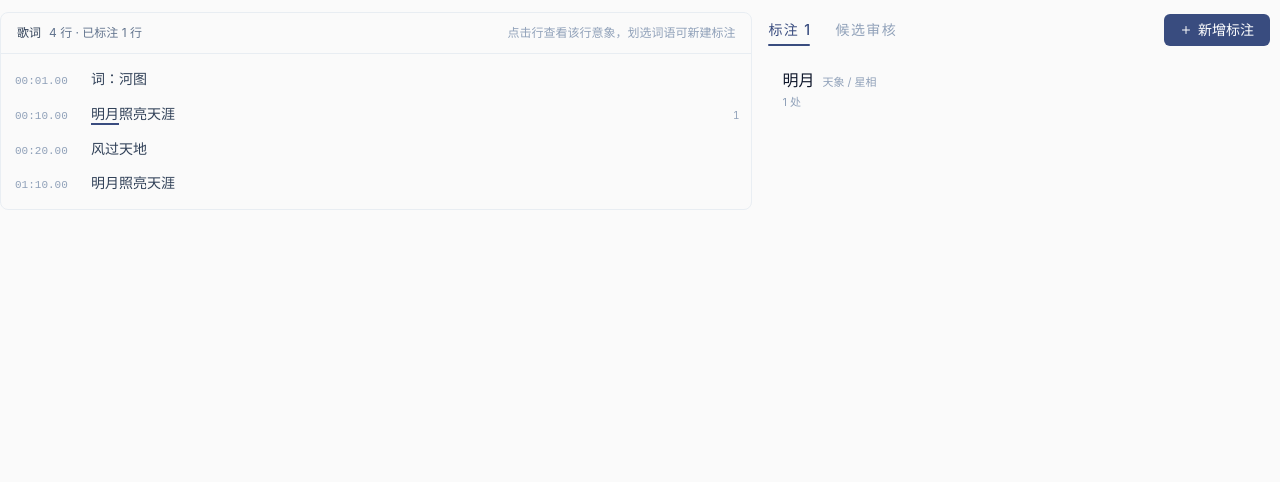
Test: SongAnnotationWorkbench › 同一首歌不能重复标同一个词
This screenshot has width=1280, height=482.
Click the button "新增标注". click: (1217,30)
box: [1164,14,1270,46]
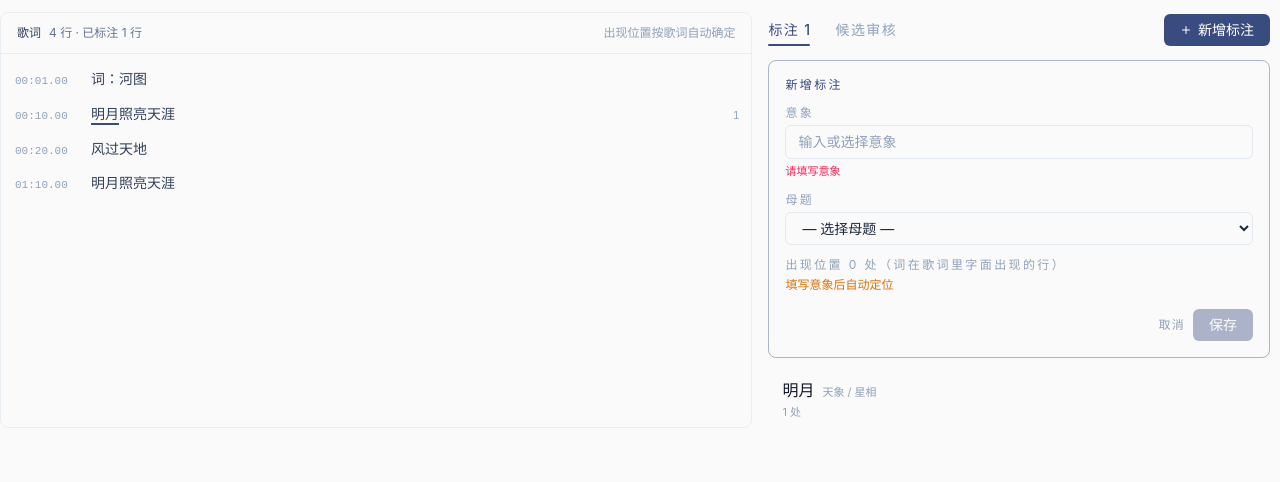
Type "明月" into the field with placeholder "输入或选择意象". click: (1019,142)
box: [785,125,1253,159]
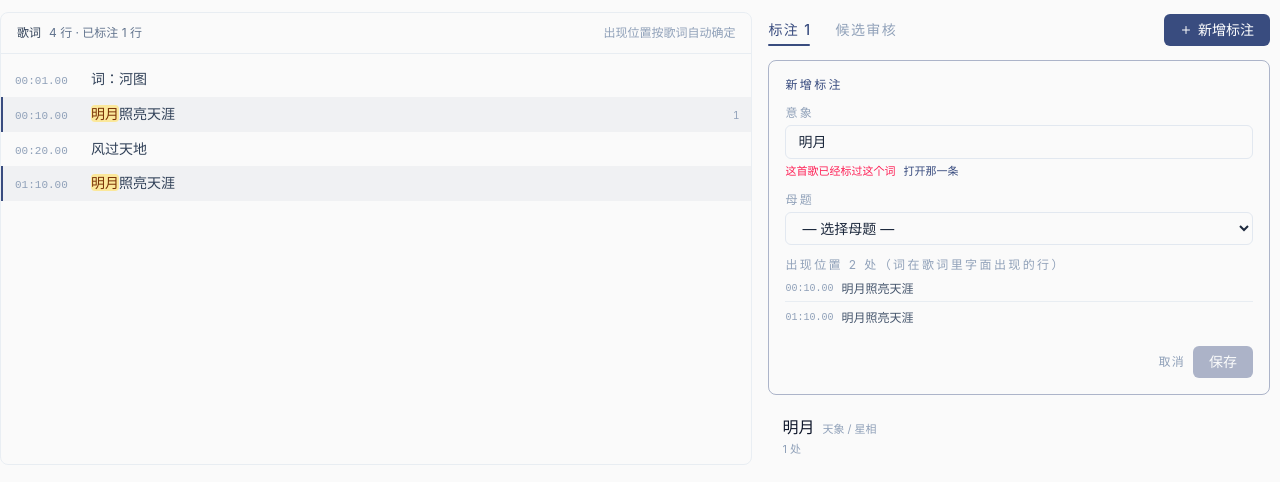
Expected: the button "保存" is disabled, [1193,346,1253,378]
Expected: the text "这首歌已经标过这个词" is shown, [785,163,895,180]
Click the button "打开那一条". click: (931,171)
box: [903,164,958,179]
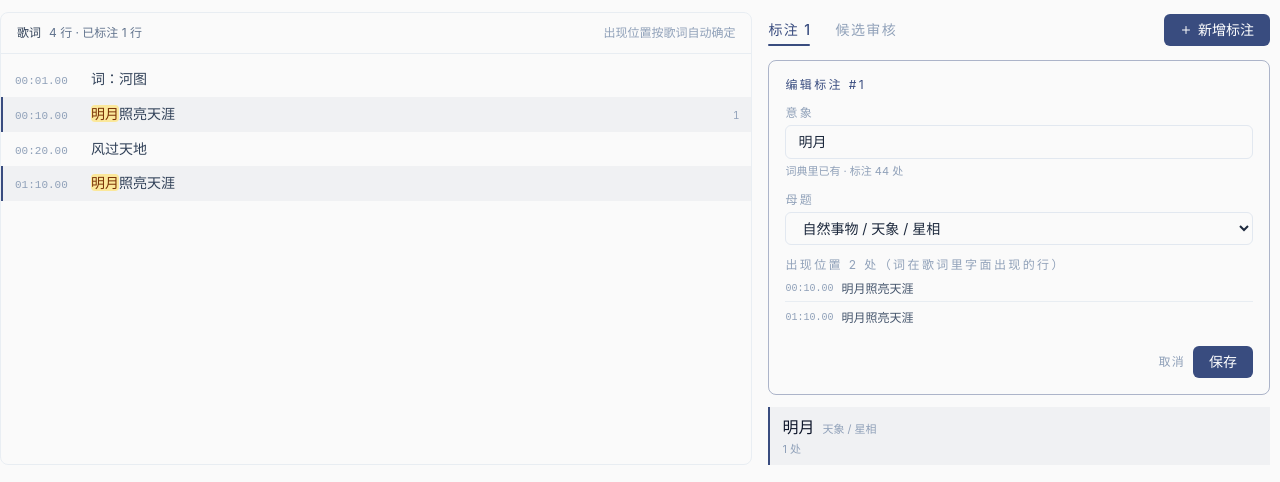
Expected: the text "编辑标注 #1" is shown, [785,77,866,92]
